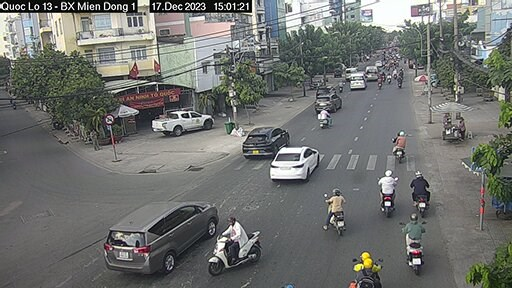car: (98, 192, 228, 270), (264, 141, 328, 199), (236, 119, 296, 162), (149, 104, 228, 132), (311, 90, 351, 119)
motorbike: (202, 215, 263, 277), (372, 171, 405, 218), (344, 243, 378, 288), (398, 210, 418, 277), (323, 188, 344, 246), (414, 170, 435, 219), (391, 130, 416, 169)
